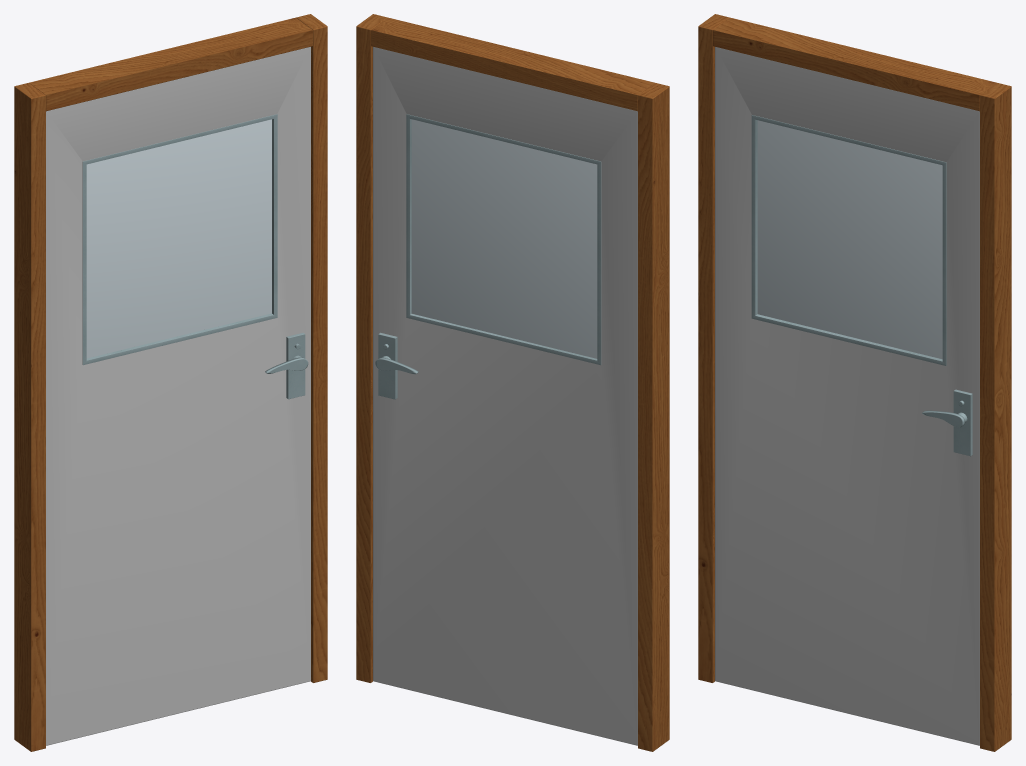
The model's file is door.fbx.
3 views of the same model, side by side, from view 1: azimuth 30°, elevation 25°; view 2: azimuth 150°, elevation 25°; view 3: azimuth 330°, elevation 25° (orthographic).
Parts seen in each view (by area): view 1: Door02; view 2: Door02; view 3: Door02.
Boxes of the visible parts, box(x1,y1,x2,y2) form: Door02: box(14, 14, 327, 751); Door02: box(356, 14, 669, 751); Door02: box(698, 14, 1011, 751).
Bounding box in the file's own units: 100 × 210 × 17.12.
